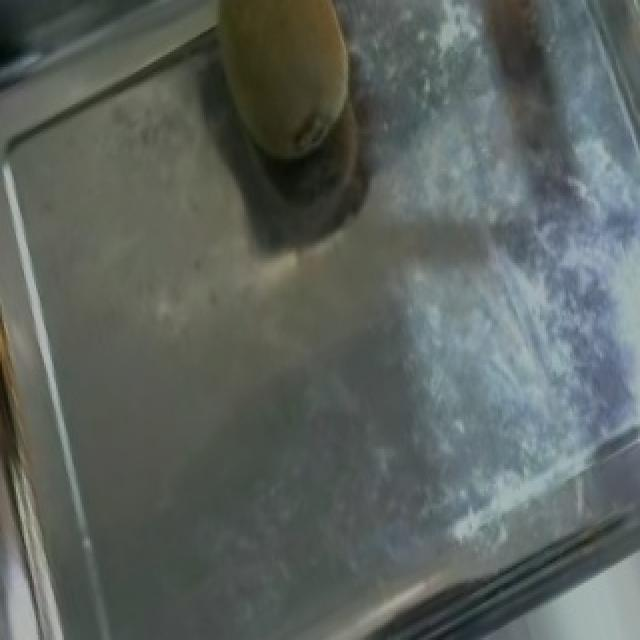Fruit: (180, 0, 386, 189)
